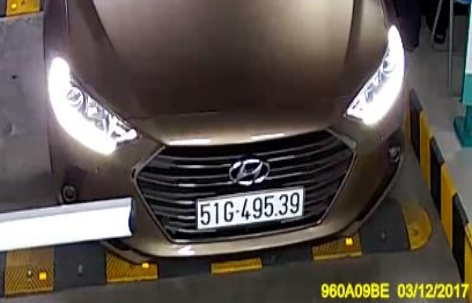plate: (191, 186, 314, 231)
